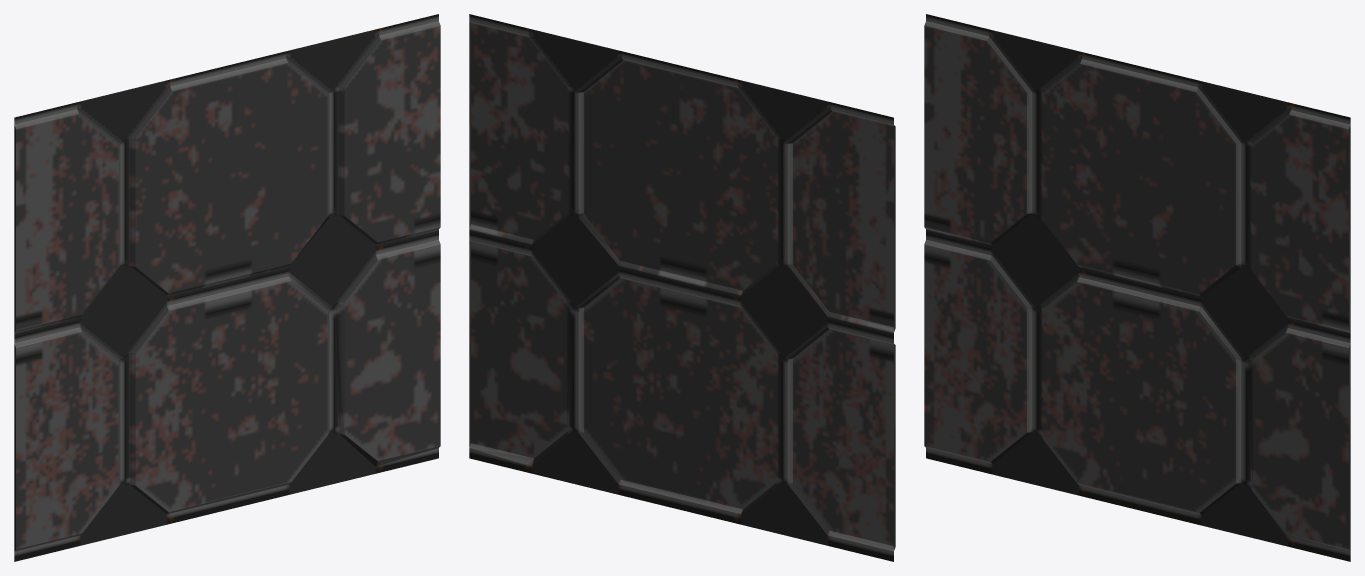
The model's file is stor1_7.fbx.
3 renders of one model, left to right at view 1: azimuth 30°, elevation 25°; view 2: azimuth 150°, elevation 25°; view 3: azimuth 330°, elevation 25°, orthographic.
Visible parts, largest first — view 1: stor1_7_mesh, stor1_7_mesh.edge2; view 2: stor1_7_mesh, stor1_7_mesh.edge1, stor1_7_mesh.edge2; view 3: stor1_7_mesh, stor1_7_mesh.edge1.
Boxes of the visible parts, <box> form: stor1_7_mesh: <box>14,14,440,561</box>; stor1_7_mesh.edge2: <box>14,125,15,550</box>; stor1_7_mesh: <box>469,14,893,561</box>; stor1_7_mesh.edge1: <box>469,21,470,446</box>; stor1_7_mesh.edge2: <box>894,125,895,550</box>; stor1_7_mesh: <box>924,14,1350,561</box>; stor1_7_mesh.edge1: <box>1349,125,1350,550</box>.
Size of the model in its own units: 256 by 256 by 2.
